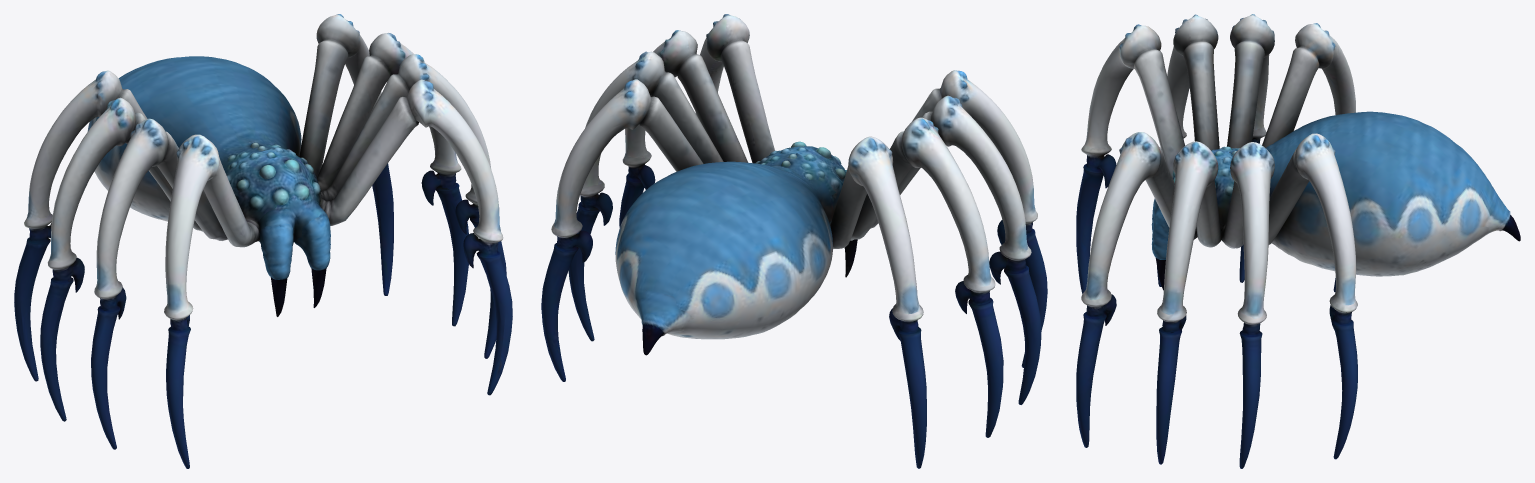
File: MZ4250 - Phase Spider.glb
The picture shows the model from 3 angles, left to right: view 1: azimuth 30°, elevation 25°; view 2: azimuth 150°, elevation 25°; view 3: azimuth 270°, elevation 25°; orthographic projection. The views are drawn at different scales.
Parts seen in each view (by area): view 1: ORGANIC BASE SPHERE.001; view 2: ORGANIC BASE SPHERE.001; view 3: ORGANIC BASE SPHERE.001.
Boxes of the visible parts, x1,y1,x2,y2 form: ORGANIC BASE SPHERE.001: (14, 14, 512, 468); ORGANIC BASE SPHERE.001: (541, 14, 1047, 468); ORGANIC BASE SPHERE.001: (1076, 14, 1520, 468).
Size of the model in its own units: 0.888 by 0.6036 by 0.8181.
Materials: 1 (1 with a texture image).
